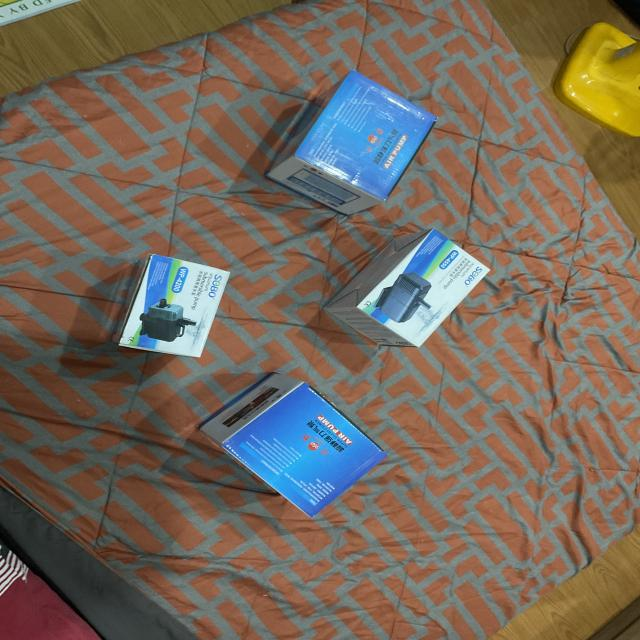SOBO_WP_4200: (322, 222, 499, 359), (105, 236, 240, 364)
YAMANO_LPP_20: (184, 369, 405, 521), (264, 64, 443, 220)
